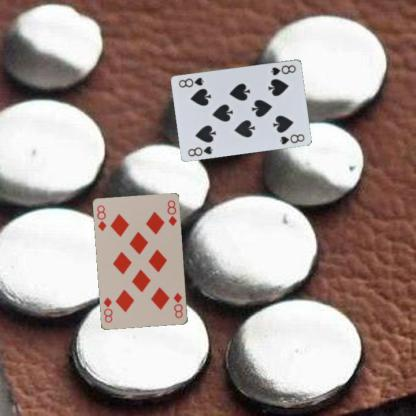8d: (94, 203, 108, 232), (171, 290, 184, 320)
8s: (186, 143, 214, 158), (269, 62, 297, 76)
